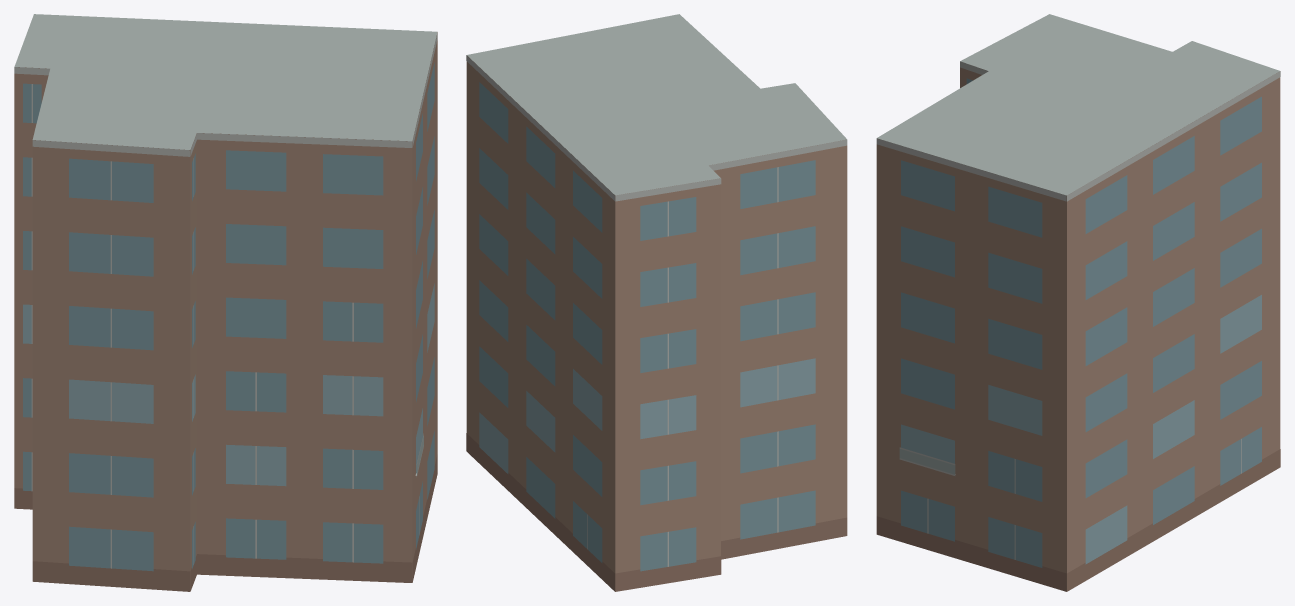
File: survey-upis-32688803.glb
3 renders of one model, left to right at view 1: azimuth 30°, elevation 25°; view 2: azimuth 150°, elevation 25°; view 3: azimuth 270°, elevation 25°, orthographic. The views are drawn at different scales.
Visible parts, largest first — view 1: survey-upis-32688803.tmp; view 2: survey-upis-32688803.tmp; view 3: survey-upis-32688803.tmp.
Boxes of the visible parts, <box> form: survey-upis-32688803.tmp: <box>14,14,437,591</box>; survey-upis-32688803.tmp: <box>466,14,847,591</box>; survey-upis-32688803.tmp: <box>876,14,1280,591</box>.
Size of the model in its own units: 15.53 by 15.8 by 14.6.
